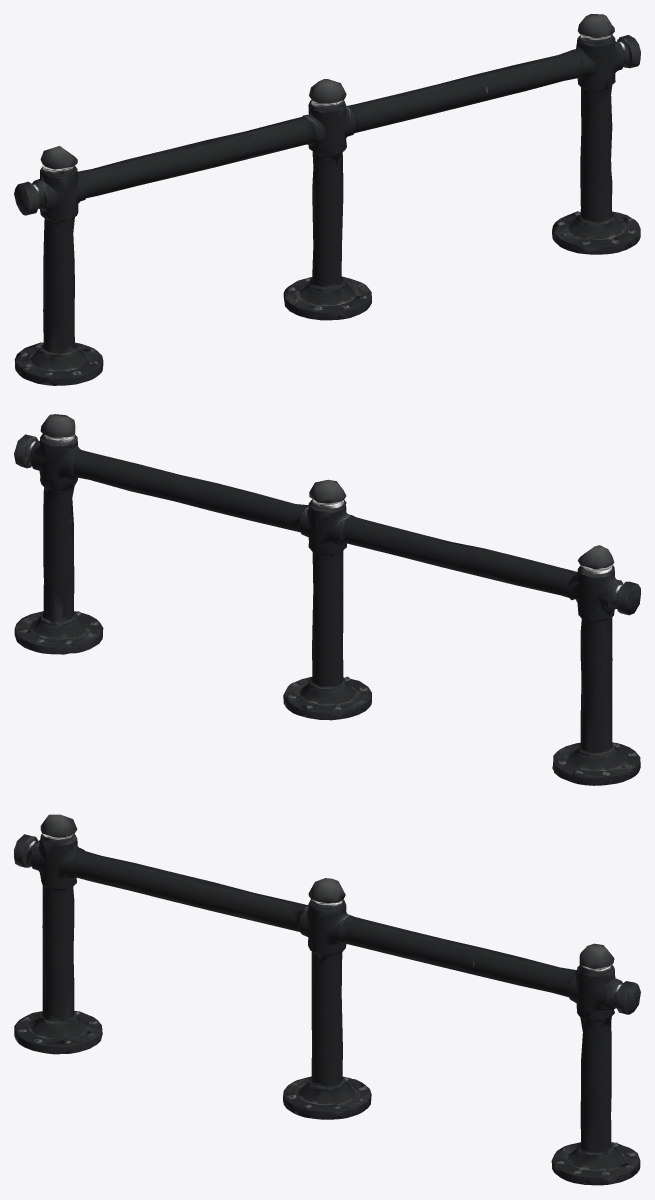
Rendered from rail.glb.
The picture shows the model from 3 angles, top to bottom: view 1: azimuth 30°, elevation 25°; view 2: azimuth 150°, elevation 25°; view 3: azimuth 330°, elevation 25°; orthographic projection.
Bounding box in the file's own units: 1.9 × 0.6496 × 0.2355.
1 material, 1 textured.
